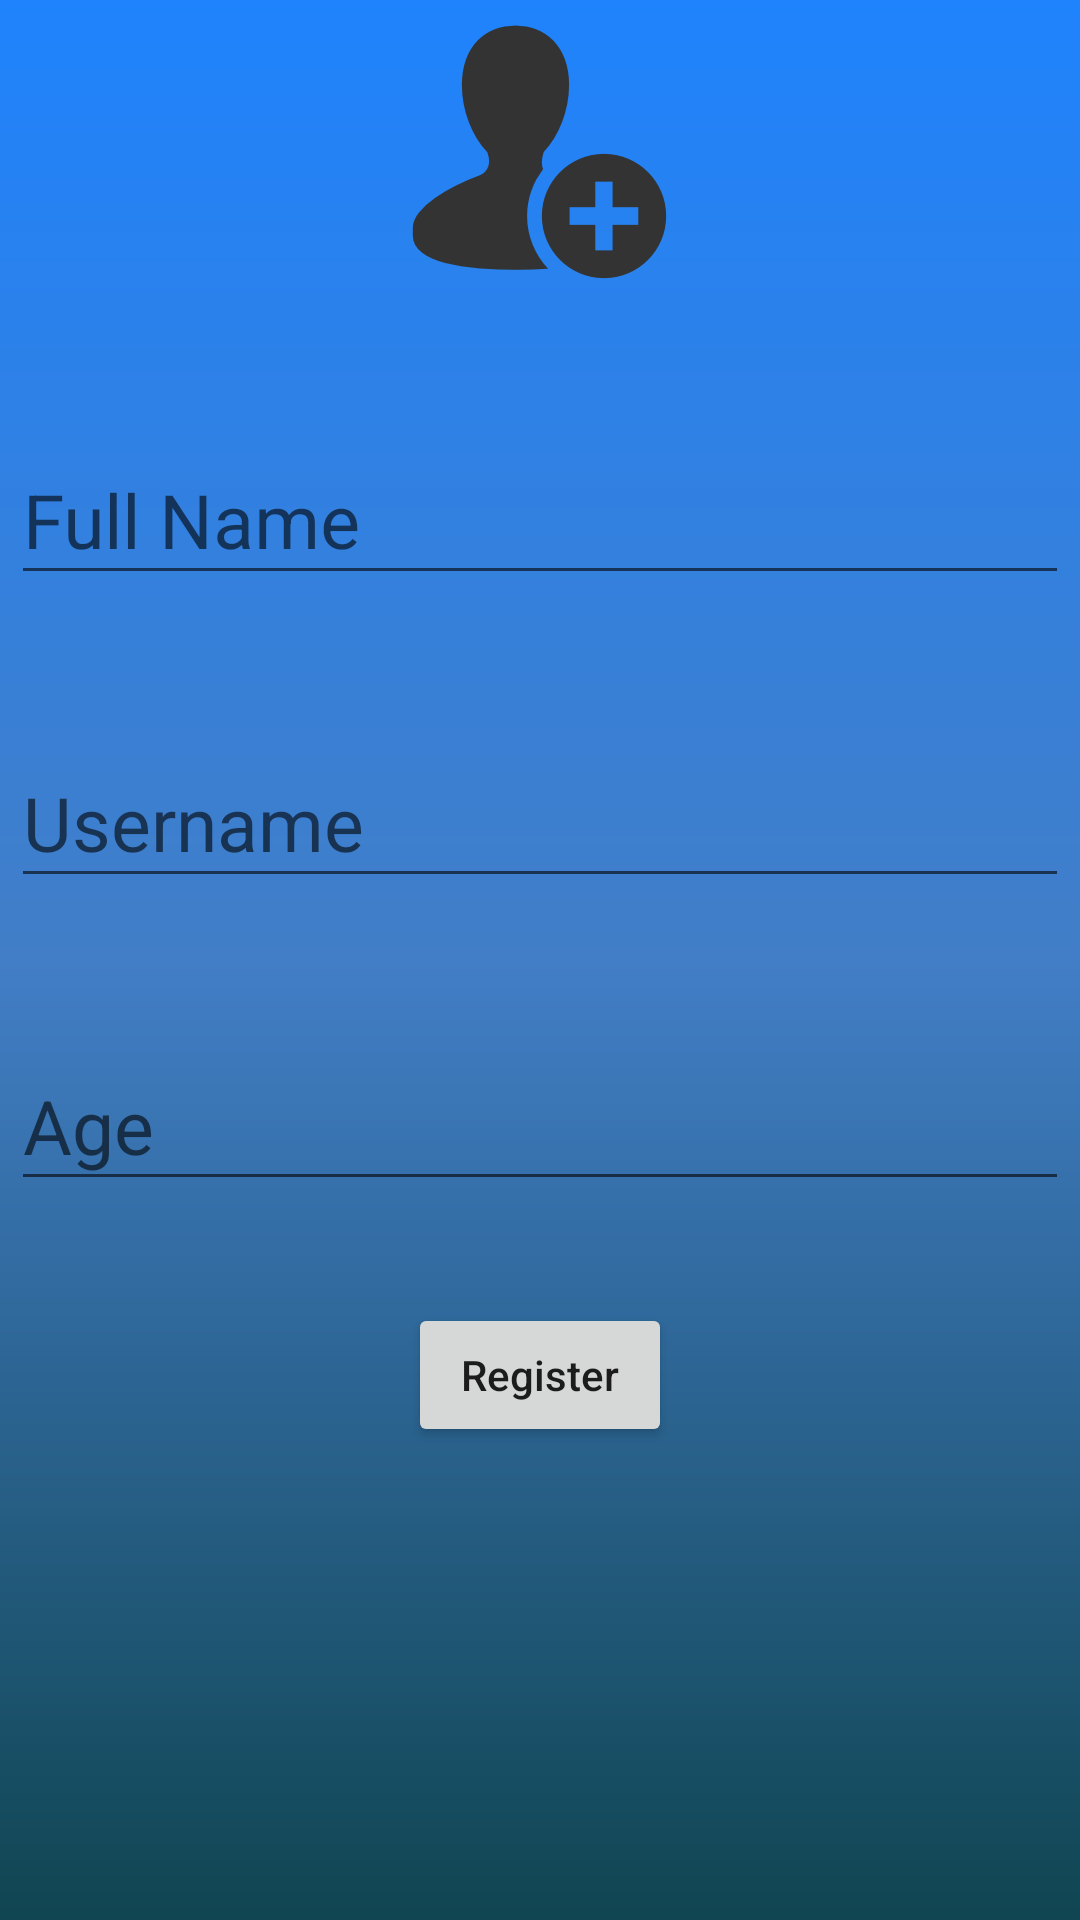

Point at icon controls on the screen. Image size 1080*1920, points as (x=x, y=y).
register: (x=539, y=152)
